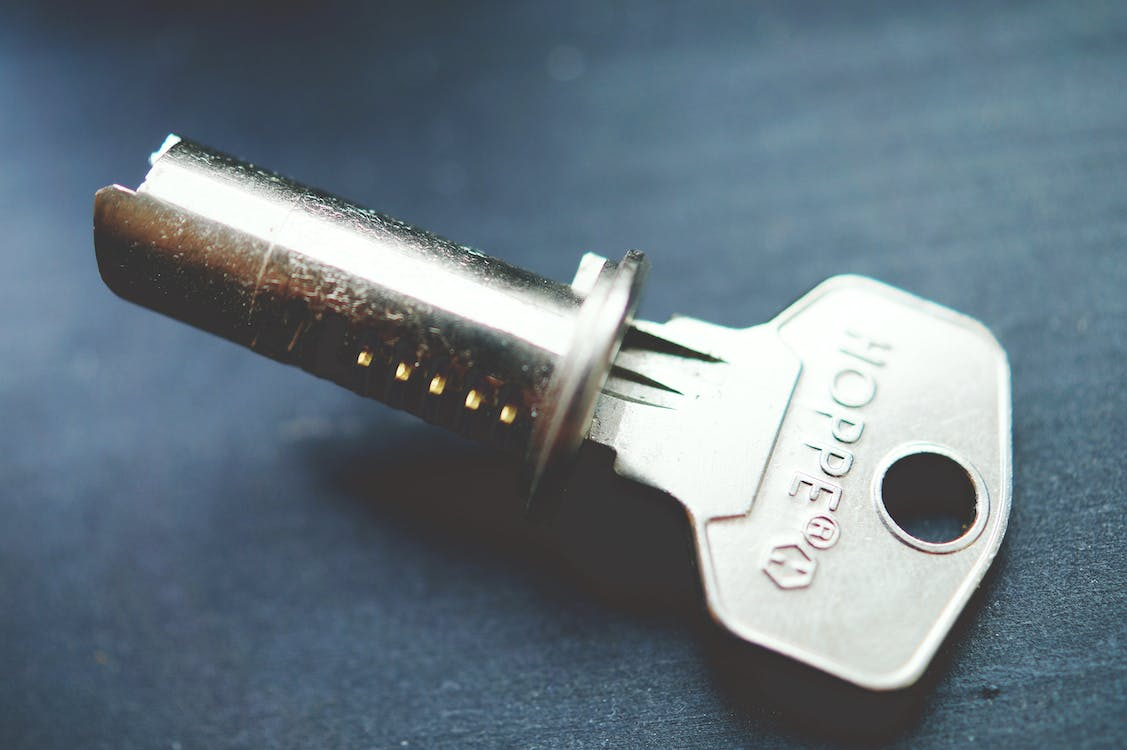key: (573, 271, 1016, 694)
